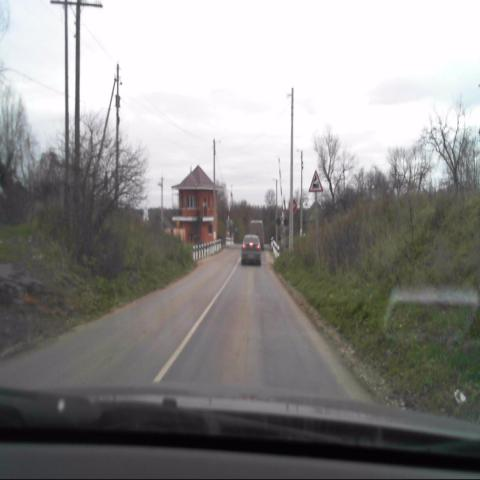1_2: (308, 169, 323, 193)
